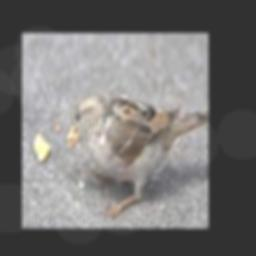Sparrow: (63, 92, 209, 219)
